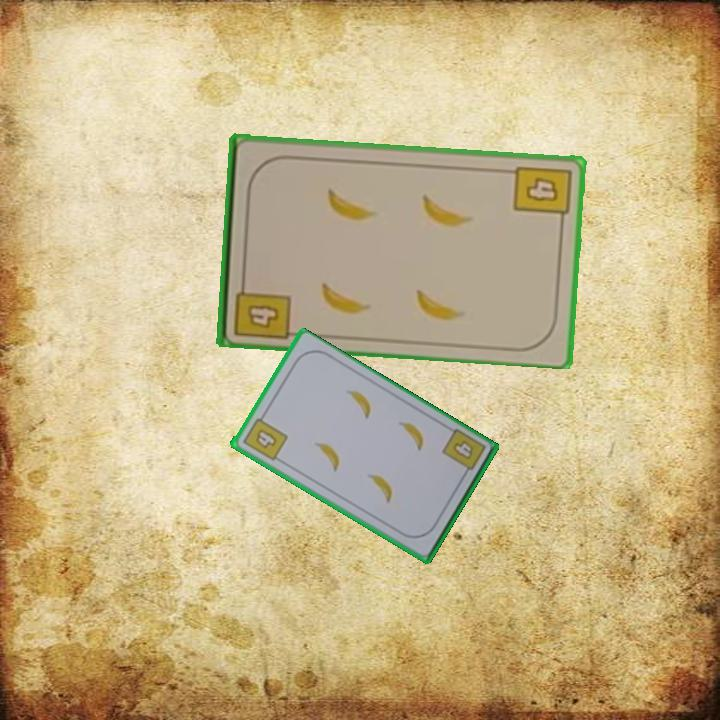4b: (230, 273, 293, 341), (510, 162, 574, 227), (239, 410, 290, 464), (449, 437, 476, 463)
